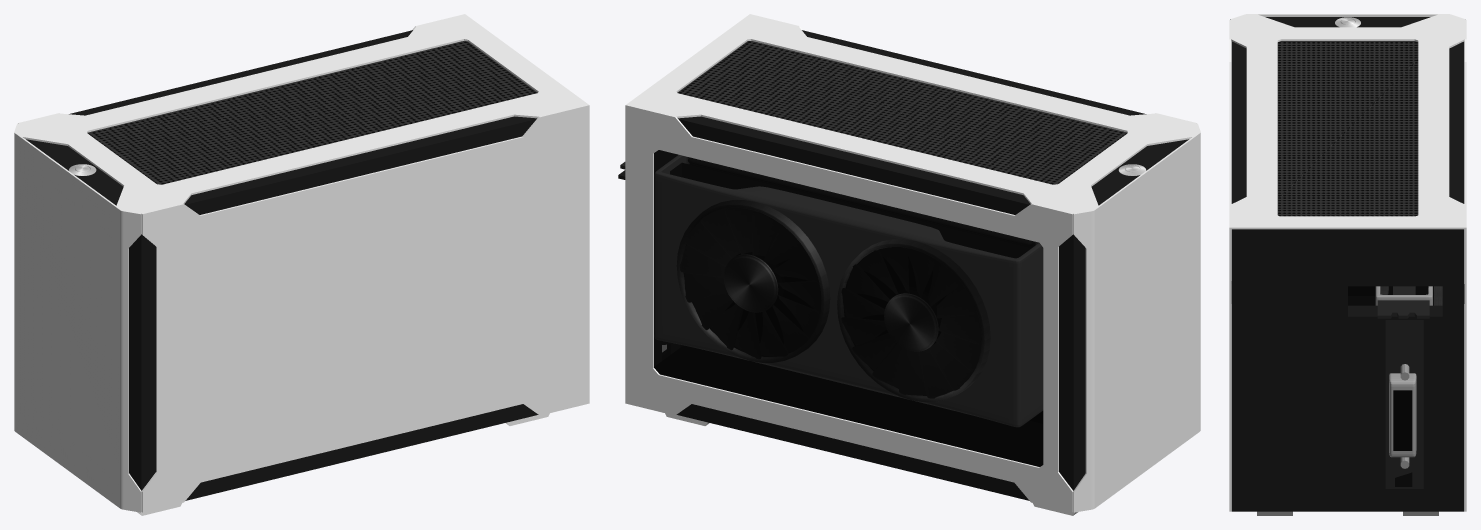
Rendered from desktop_4_sliger_mini_white.glb.
3 renders of one model, left to right at view 1: azimuth 30°, elevation 25°; view 2: azimuth 150°, elevation 25°; view 3: azimuth 270°, elevation 25°, orthographic. The views are drawn at different scales.
Parts seen in each view (by area): view 1: Cube.007; view 2: Cube.007; view 3: Cube.007.
Part boxes in pixels (x1=…): Cube.007: x1=14, y1=14, x2=589, y2=515; Cube.007: x1=618, y1=14, x2=1200, y2=515; Cube.007: x1=1229, y1=14, x2=1466, y2=515.
Size of the model in its own units: 13.9 by 8.66 by 6.19.
11 materials, 3 textured.
